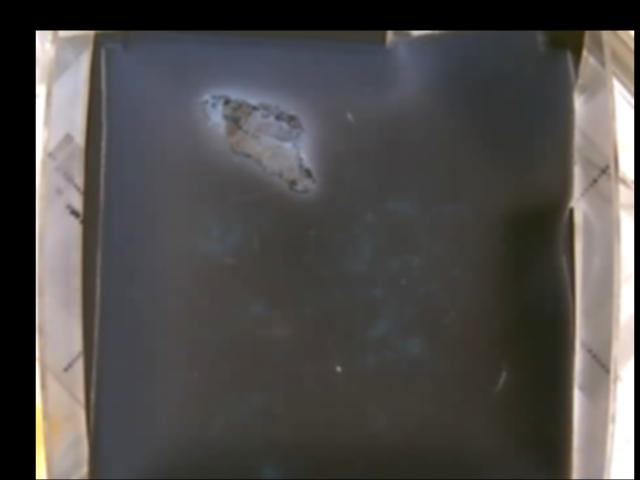Brisk: (196, 93, 318, 192)
